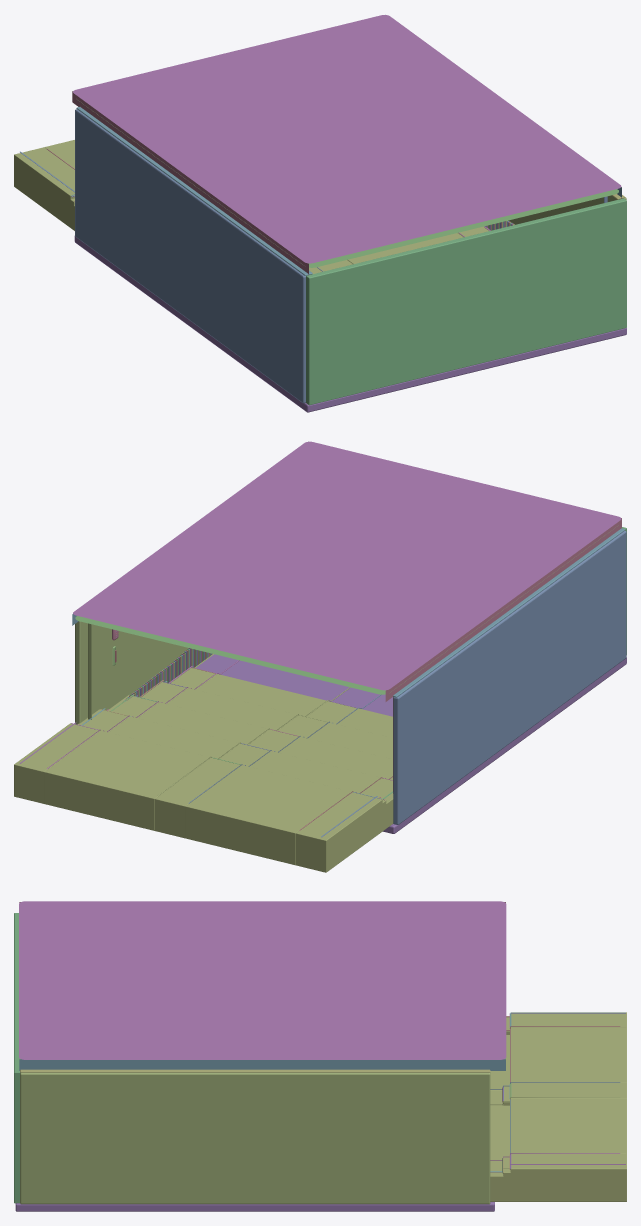
File: theatre.glb
3 renders of one model, top to bottom at view 1: azimuth 30°, elevation 25°; view 2: azimuth 150°, elevation 25°; view 3: azimuth 270°, elevation 25°, orthographic. The views are drawn at different scales.
Parts seen in each view (by area): view 1: theatre | Static geometry; view 2: theatre | Static geometry; view 3: theatre | Static geometry.
Boxes of the visible parts, x1=… form: theatre | Static geometry: x1=14, y1=15, x2=626, y2=412; theatre | Static geometry: x1=14, y1=441, x2=626, y2=872; theatre | Static geometry: x1=14, y1=901, x2=626, y2=1211.
Bounding box in the file's own units: 17 × 7.38 × 27.11.
